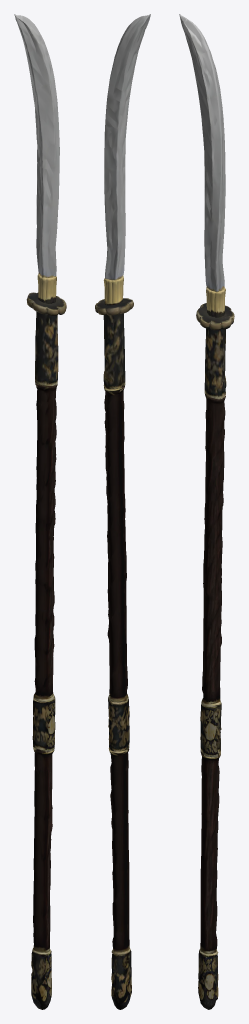
The model's file is naginata_monk.glb.
The picture shows the model from 3 angles, left to right: view 1: azimuth 30°, elevation 25°; view 2: azimuth 150°, elevation 25°; view 3: azimuth 330°, elevation 25°; orthographic projection.
Parts seen in each view (by area): view 1: _MeshInstance3D_82; view 2: _MeshInstance3D_82; view 3: _MeshInstance3D_82.
Part boxes in pixels (<box>): _MeshInstance3D_82: <box>14,14,66,1009</box>; _MeshInstance3D_82: <box>95,14,150,1009</box>; _MeshInstance3D_82: <box>179,14,234,1009</box>.
Bounding box in the file's own units: 0.0601 × 1.12 × 0.0411.
Materials: 1 (1 with a texture image).
